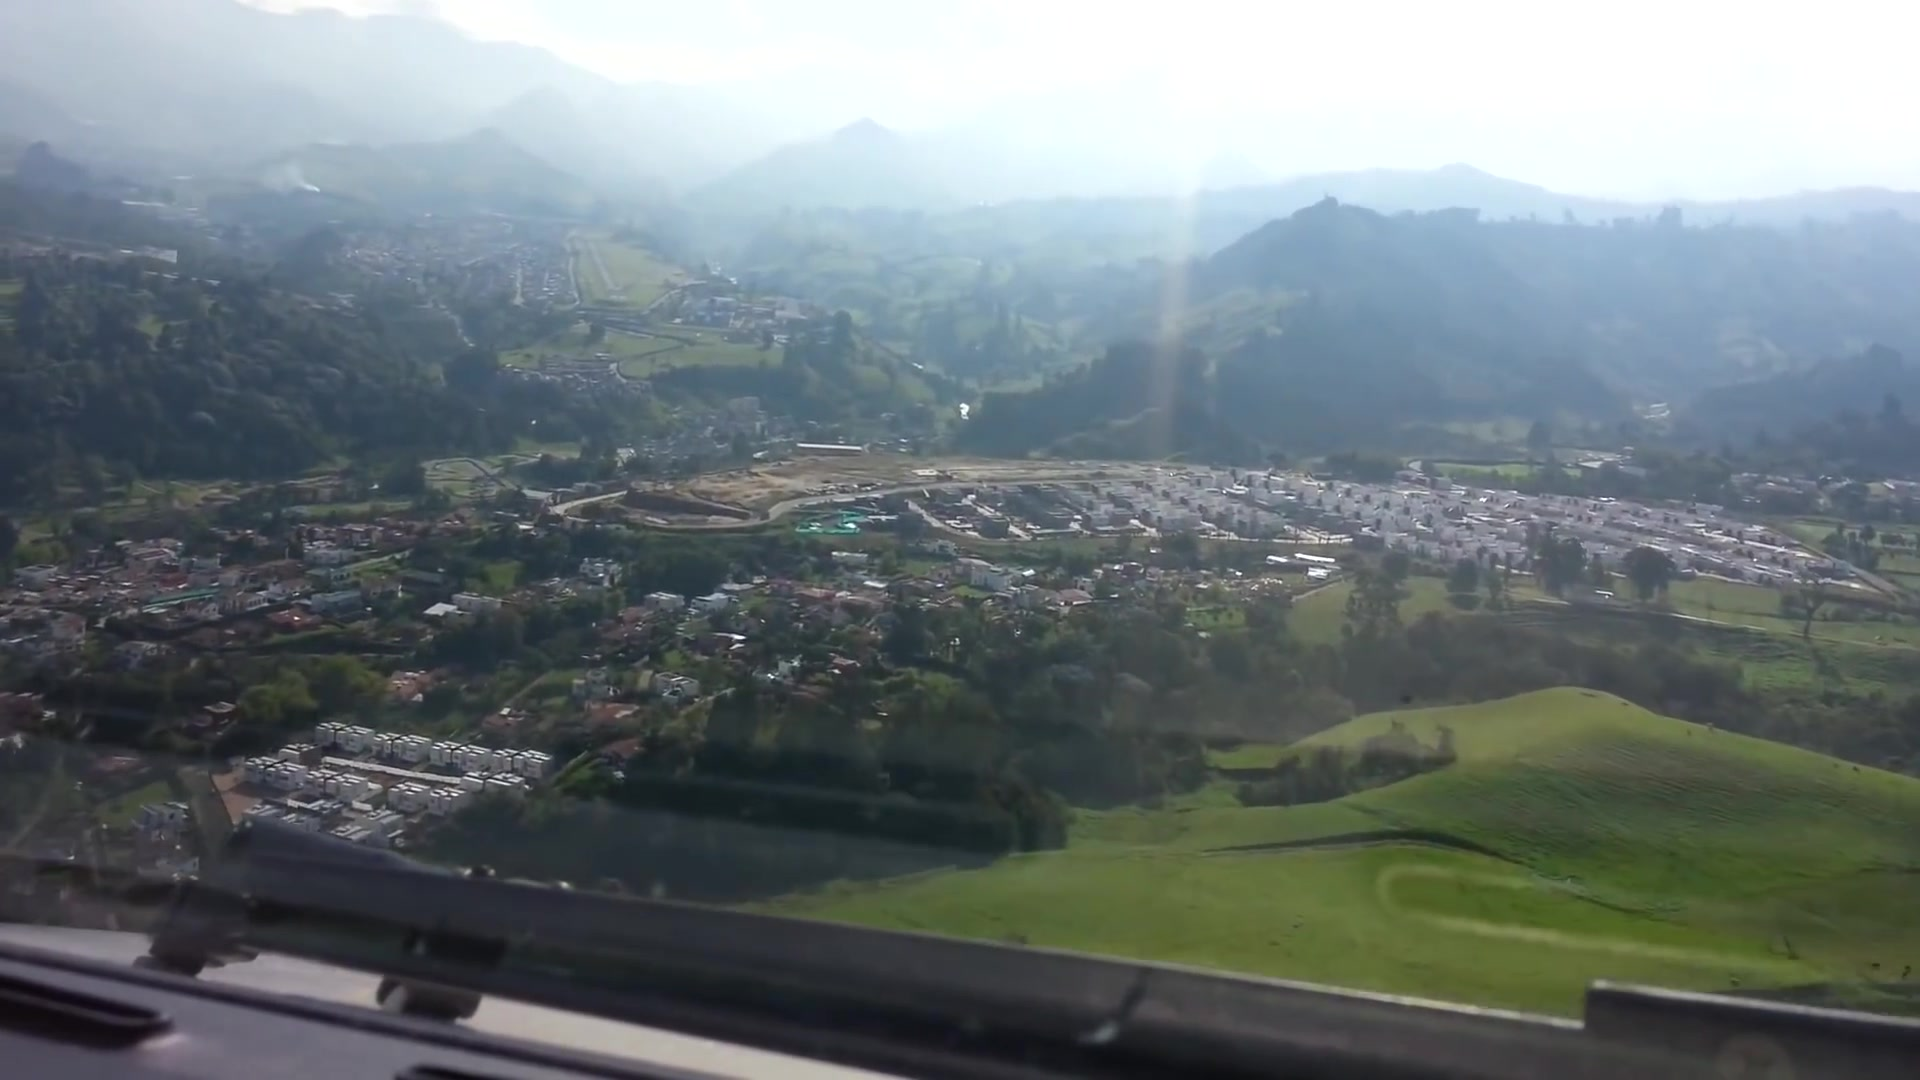runway: (585, 239, 632, 302)
